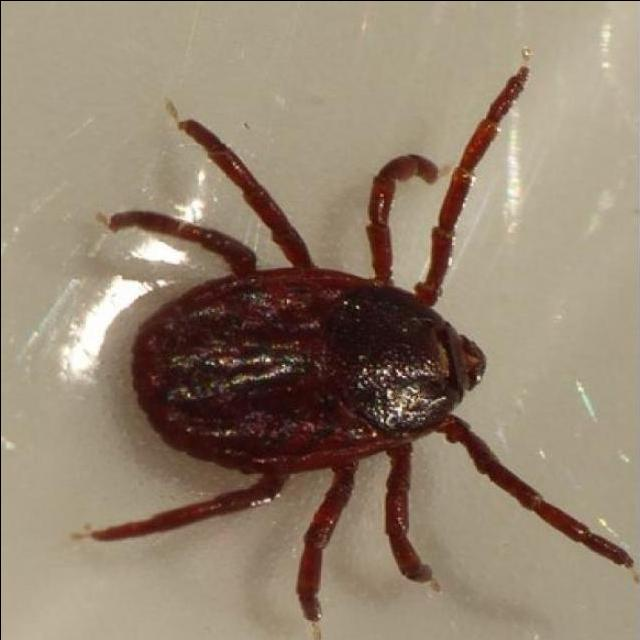Rhipicephalus Sanguineus-F: (84, 52, 633, 624)
